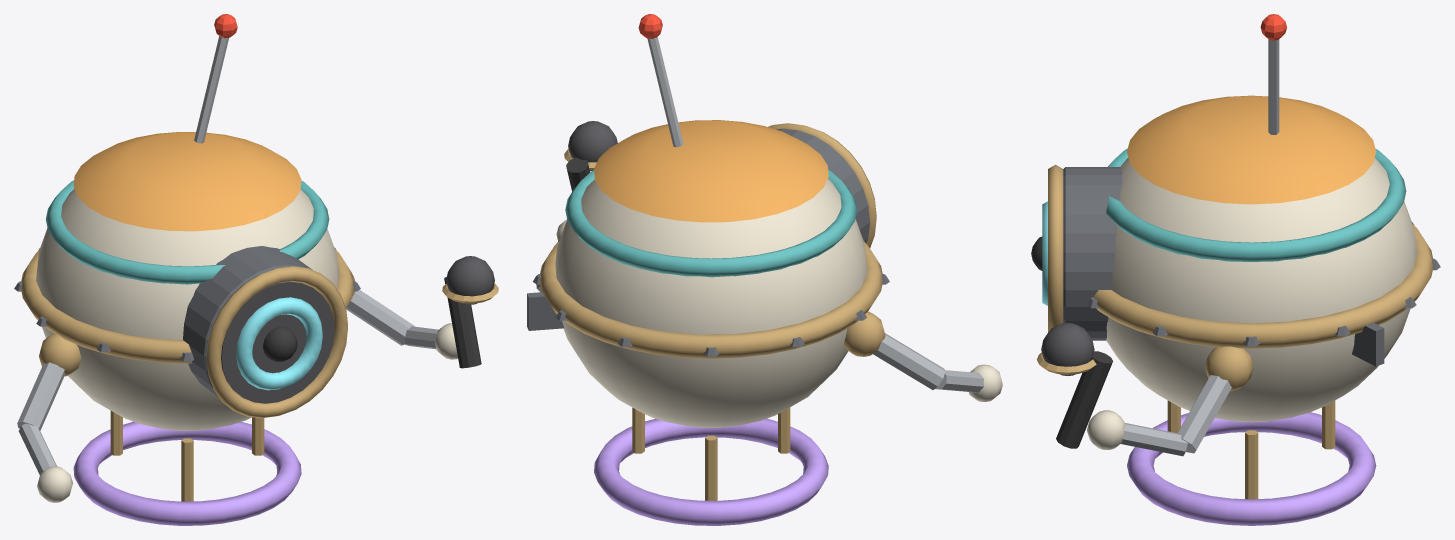
The model's file is Garage_N0.glb.
3 renders of one model, left to right at view 1: azimuth 30°, elevation 25°; view 2: azimuth 150°, elevation 25°; view 3: azimuth 270°, elevation 25°, orthographic. The views are drawn at different scales.
Visible parts, largest first — view 1: Garage_N0; view 2: Garage_N0; view 3: Garage_N0.
Boxes of the visible parts, x1,y1,x2,y2 form: Garage_N0: (14,14,498,525); Garage_N0: (527,14,1002,525); Garage_N0: (1031,14,1440,525).
Bounding box in the file's own units: 0.4951 × 0.4824 × 0.368.
